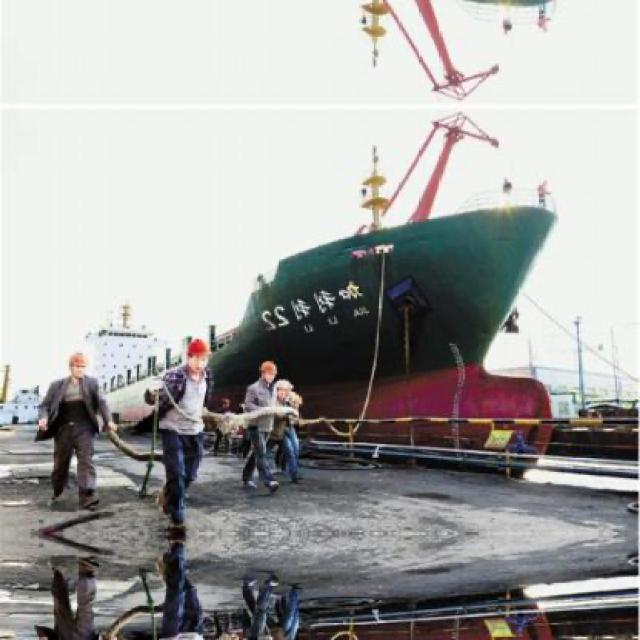con casco: (175, 330, 218, 380), (54, 348, 103, 387)
